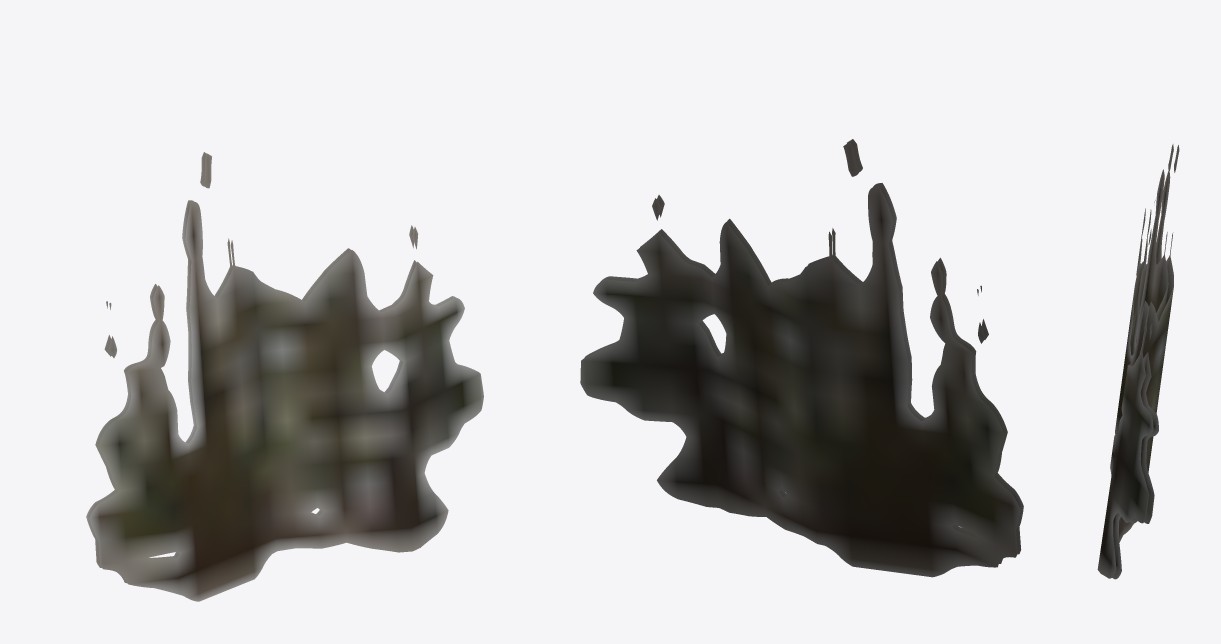
File: bz_bush_03.fbx
The picture shows the model from 3 angles, left to right: view 1: azimuth 30°, elevation 25°; view 2: azimuth 150°, elevation 25°; view 3: azimuth 270°, elevation 25°; orthographic projection. The views are drawn at different scales.
Parts seen in each view (by area): view 1: bz_bush_03; view 2: bz_bush_03; view 3: bz_bush_03.
Part boxes in pixels (<box>): bz_bush_03: <box>86,152,483,601</box>; bz_bush_03: <box>580,139,1023,577</box>; bz_bush_03: <box>1097,144,1179,579</box>.
Bounding box in the file's own units: 0.7833 × 0.7974 × 0.1892.
